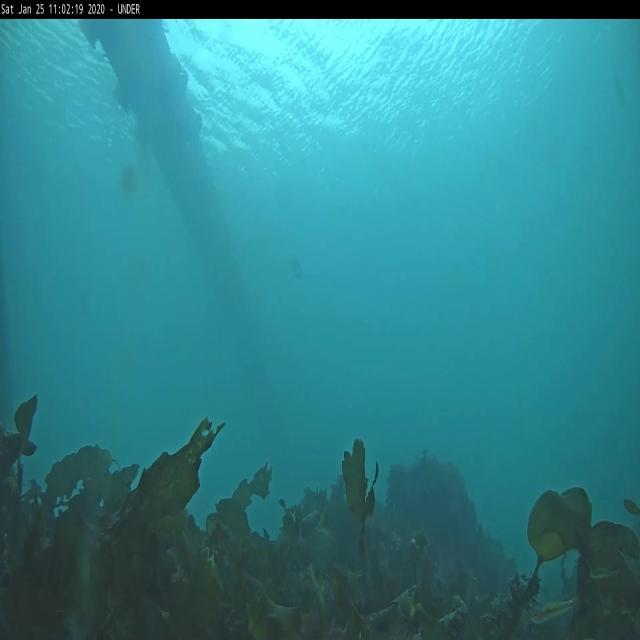fish: (527, 594, 581, 622), (286, 248, 305, 286), (622, 494, 640, 524)
